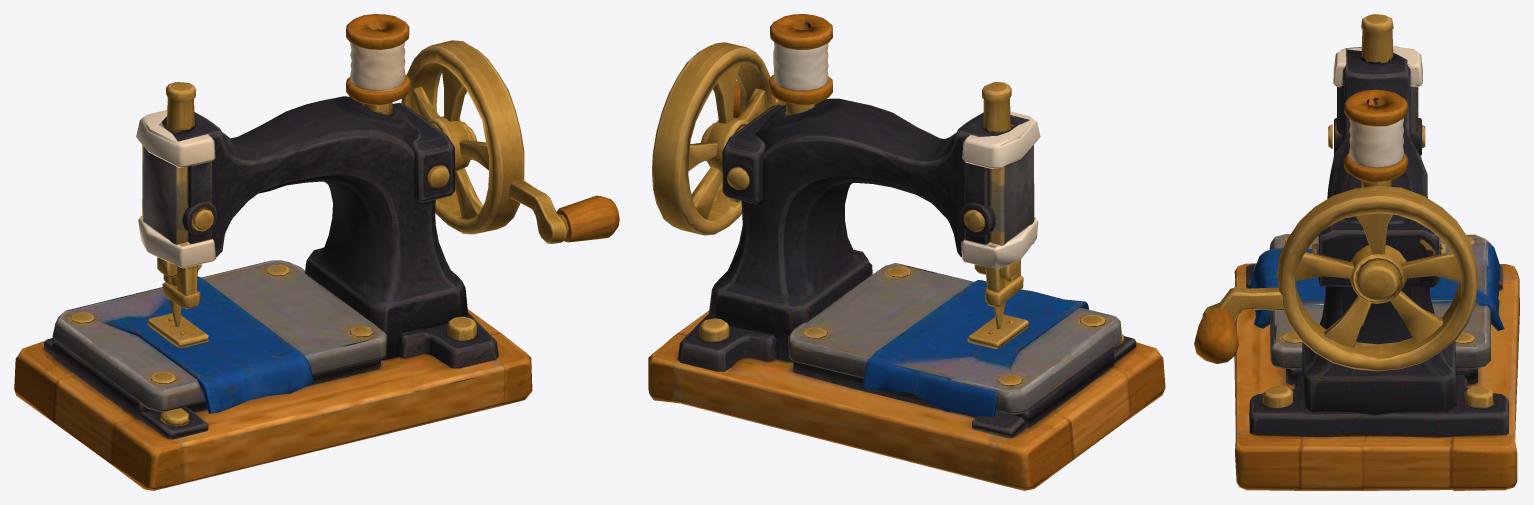
The model's file is sewing_machine.glb.
3 renders of one model, left to right at view 1: azimuth 30°, elevation 25°; view 2: azimuth 150°, elevation 25°; view 3: azimuth 270°, elevation 25°, orthographic.
Parts seen in each view (by area): view 1: kit-sewing-machine-1; view 2: kit-sewing-machine-1; view 3: kit-sewing-machine-1.
Boxes of the visible parts, x1=… form: kit-sewing-machine-1: x1=14, y1=14, x2=619, y2=490; kit-sewing-machine-1: x1=648, y1=14, x2=1165, y2=490; kit-sewing-machine-1: x1=1194, y1=14, x2=1519, y2=490.
Bounding box in the file's own units: 0.95 × 0.6829 × 0.5809.
1 material, 1 textured.
